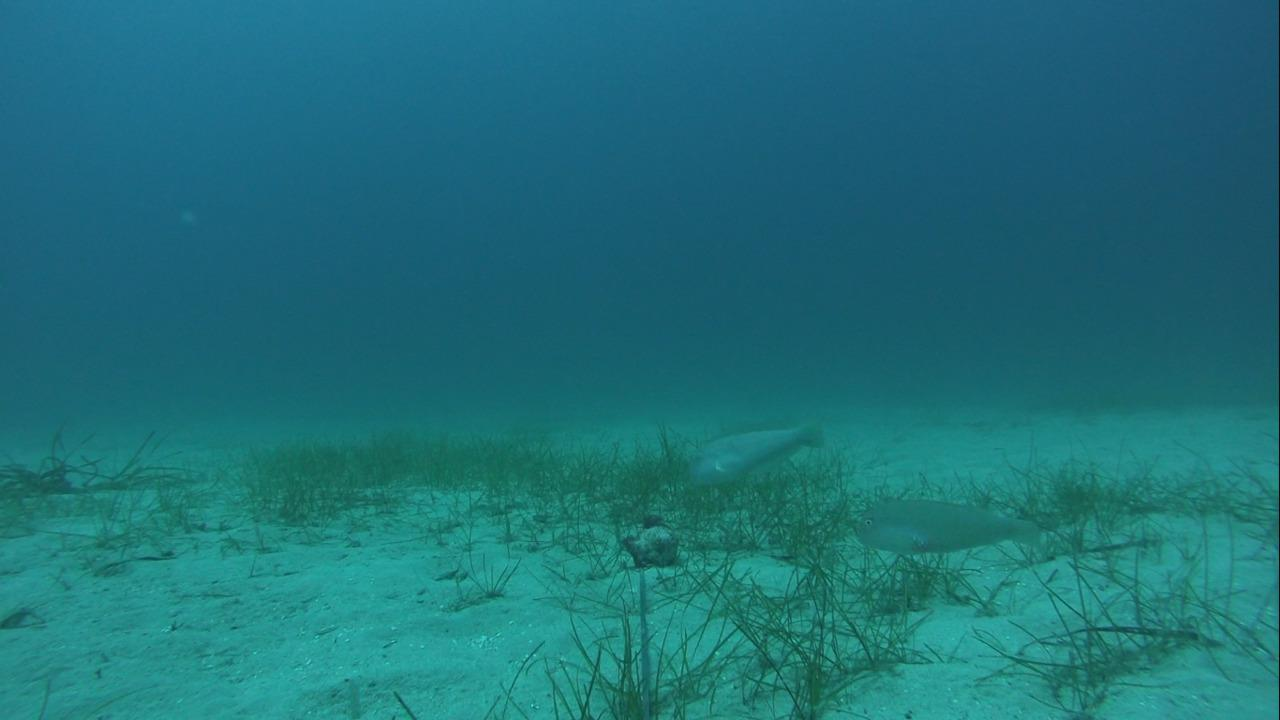raor: (843, 492, 1047, 564), (681, 420, 825, 488)
